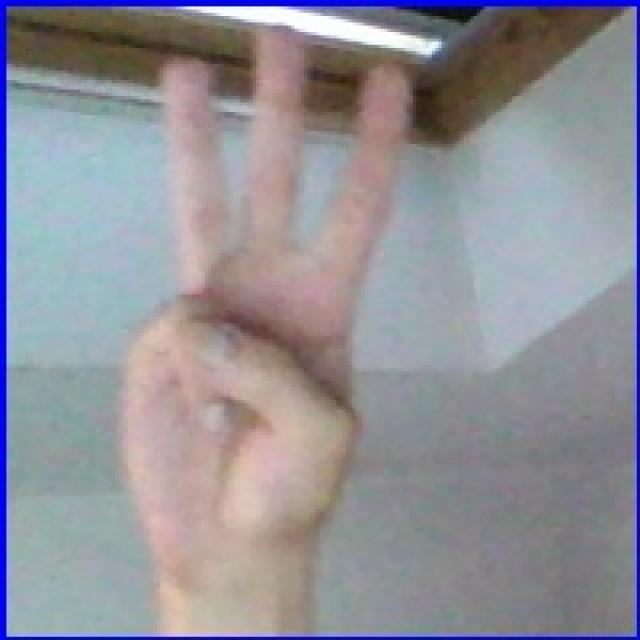Letra-W: (88, 15, 456, 571)
